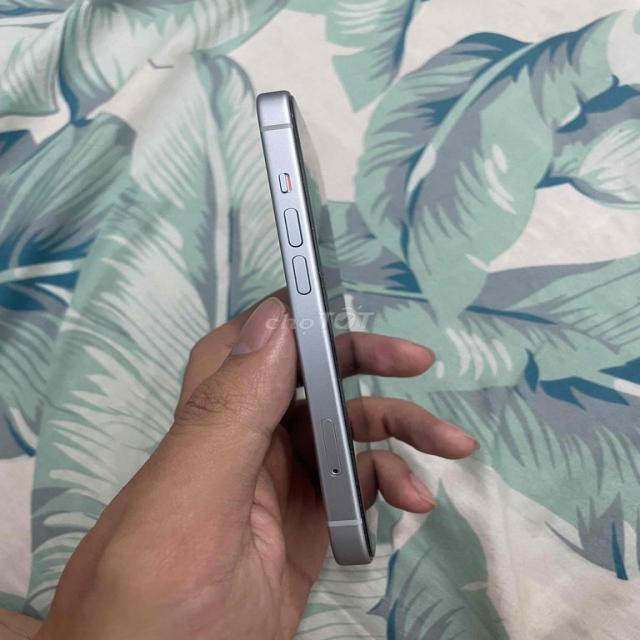gen_15: (214, 74, 422, 577)
scratch: (309, 225, 317, 231), (288, 111, 296, 117)
